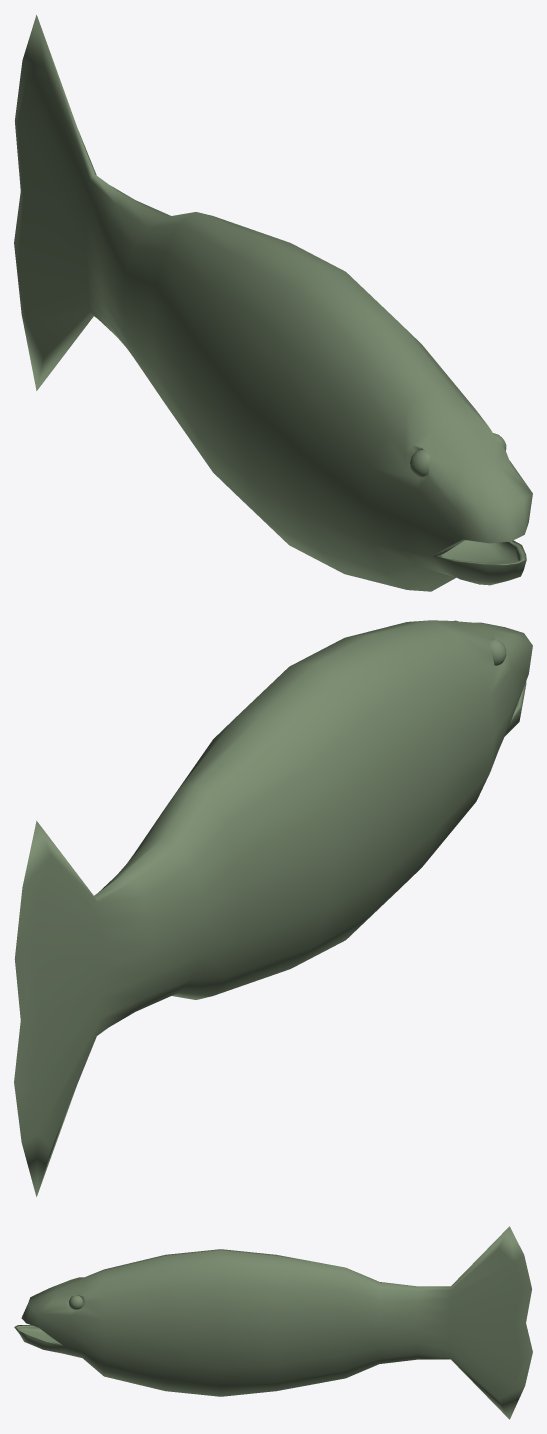
File: seaBass.fbx
3 renders of one model, top to bottom at view 1: azimuth 30°, elevation 25°; view 2: azimuth 150°, elevation 25°; view 3: azimuth 270°, elevation 25°, orthographic. The views are drawn at different scales.
Visible parts, largest first — view 1: fish_GEO; view 2: fish_GEO; view 3: fish_GEO.
Boxes of the visible parts, x1=… form: fish_GEO: x1=14, y1=15, x2=532, y2=591; fish_GEO: x1=14, y1=620, x2=532, y2=1196; fish_GEO: x1=14, y1=1226, x2=532, y2=1419.
Size of the model in its own units: 18.38 by 44.57 by 108.
